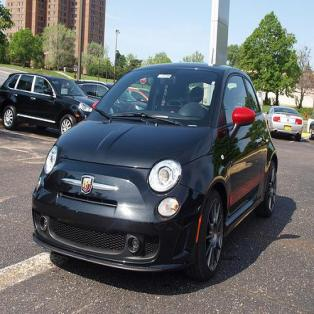Auto: (31, 62, 278, 281)
